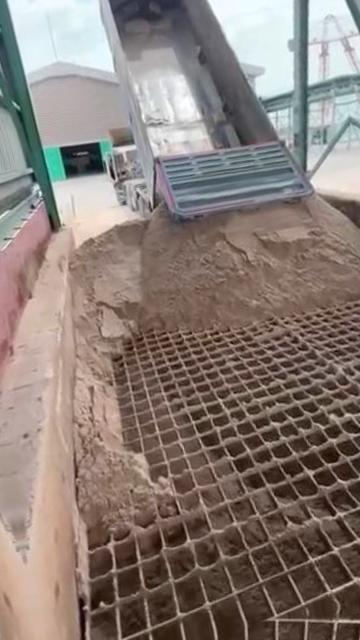sand: (71, 197, 360, 540)
